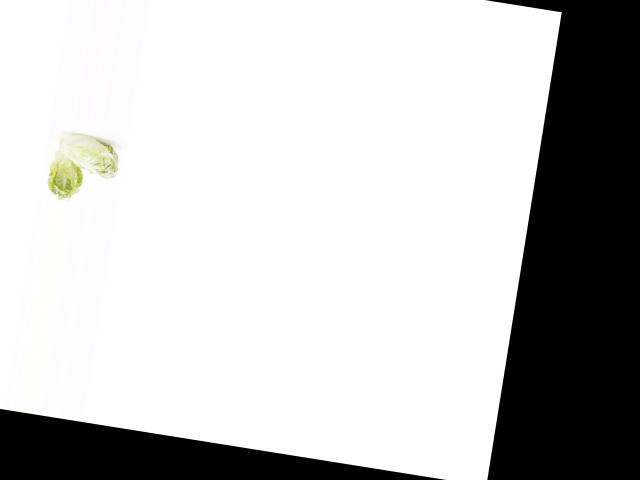lettuce: (50, 128, 126, 185)
